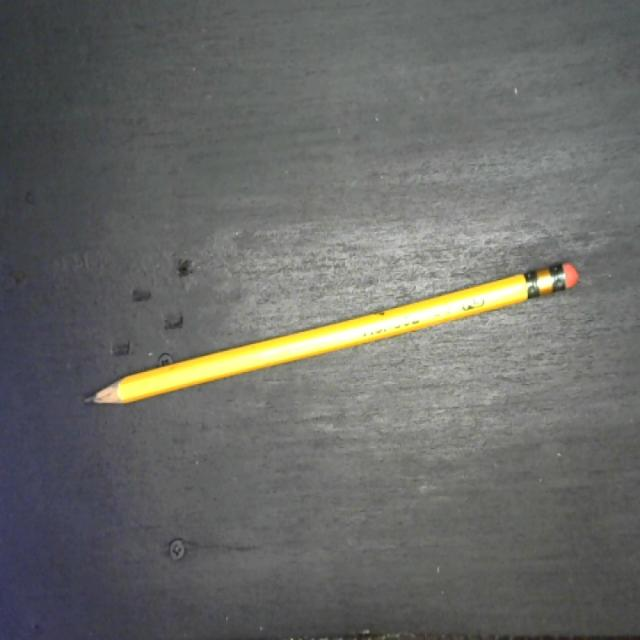biodegradable: (80, 256, 582, 411)
